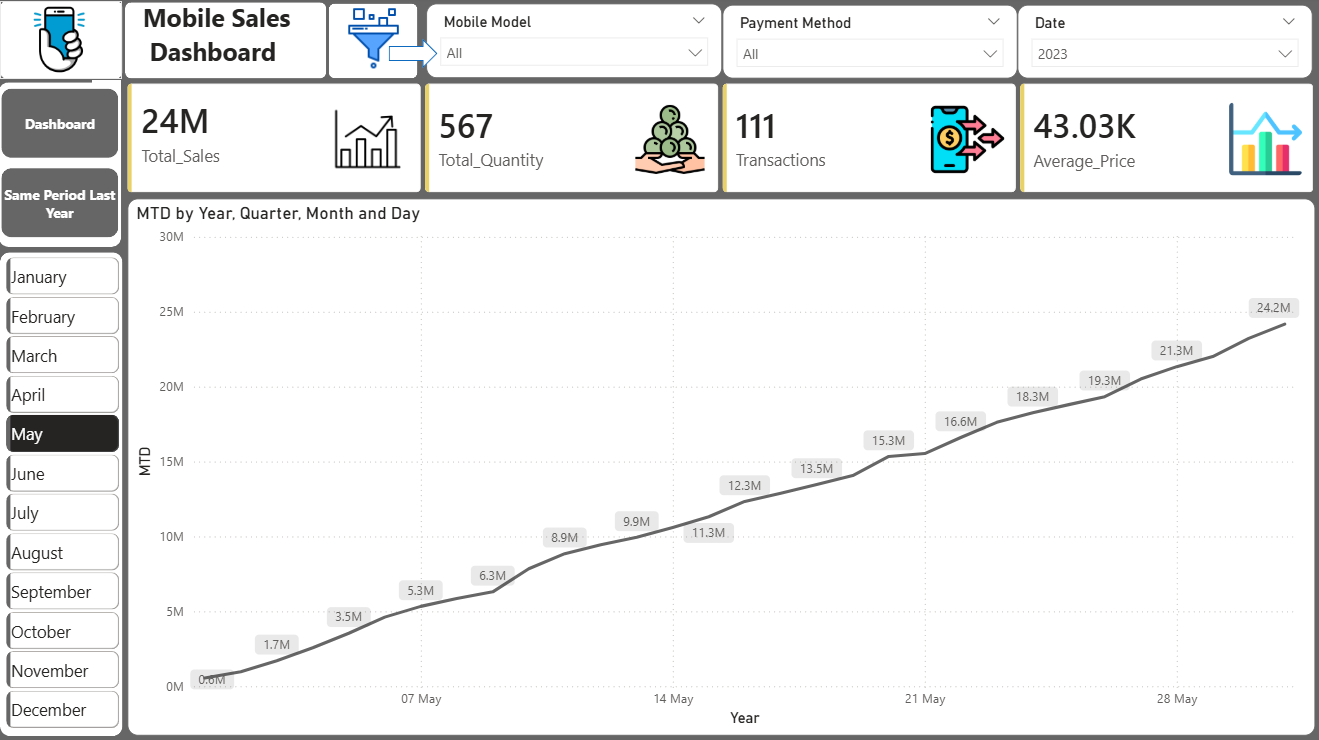

What the dashboard file says about the page in this screenshot:
{"tool":"powerbi","page":{"name":"MTD Dashboard","canvas":[1280,720],"ordinal":1},"visuals":[{"type":"shape","box":[4.8,4.8,118.2,74.8],"z":0},{"type":"shape","box":[4,83,118.2,159],"z":1000},{"type":"shape","box":[4.8,247,118.2,467],"z":2000},{"type":"shape","box":[125.5,6,194.2,73.6],"z":3000},{"type":"shape","box":[322.1,7.2,85.7,72.4],"z":4000},{"type":"advancedSlicerVisual","fields":{"Values":["Custom_Calendar.Date.Variation.Date Hierarchy.Month"]},"box":[8.4,252.1,113.4,462.1],"z":5000},{"type":"cardVisual","fields":{"Data":["Mobile_Data_Sales.Total_Sales","Mobile_Data_Sales.Total_Quantity","Mobile_Data_Sales.Transactions","Mobile_Data_Sales.Average_Price"]},"box":[123.1,79.6,1157,115.8],"z":6000},{"type":"textbox","box":[137.5,0,182.2,79.6],"z":7000},{"type":"slicer","fields":{"Values":["Mobile_Data_Sales.Mobile Model"]},"box":[416.2,7.2,285.9,72.4],"z":8000},{"type":"slicer","fields":{"Values":["Mobile_Data_Sales.Payment Method"]},"box":[702.1,8.4,284.7,71.2],"z":9000},{"type":"slicer","fields":{"Values":["Custom_Calendar.Date.Variation.Date Hierarchy.Year","Custom_Calendar.Date.Variation.Date Hierarchy.Quarter","Custom_Calendar.Date.Variation.Date Hierarchy.Month","Custom_Calendar.Date.Variation.Date Hierarchy.Day"]},"box":[986.9,8.4,284.7,71.2],"z":10000},{"type":"shape","box":[380,41,47.1,29],"z":11000},{"type":"image","box":[328.2,10.9,74.8,60.3],"z":12000},{"type":"lineChart","fields":{"Category":["Custom_Calendar.Date.Variation.Date Hierarchy.Year","Custom_Calendar.Date.Variation.Date Hierarchy.Quarter","Custom_Calendar.Date.Variation.Date Hierarchy.Month","Custom_Calendar.Date.Variation.Date Hierarchy.Day"],"Y":["Mobile_Data_Sales.MTD"]},"box":[127.9,195.4,1146.1,518.8],"z":13000},{"type":"pageNavigator","box":[6,89.3,113.4,144.8],"z":14000},{"type":"image","box":[18.1,0,88.1,83.2],"z":15000}]}

Visuals, with their boxes in screenshot pixels (x1, y1, x2, y2), scaled from the page's 1280x720 canvas onto the 1319x740 screenshot:
shape: 5,5,127,82
shape: 4,85,126,249
shape: 5,254,127,734
shape: 129,6,329,82
shape: 332,7,420,82
advancedSlicerVisual - Custom_Calendar.Date.Variation.Date Hierarchy.Month: 9,259,126,734
cardVisual - Mobile_Data_Sales.Total_Sales x Mobile_Data_Sales.Total_Quantity: 127,82,1318,201
textbox: 142,0,329,82
slicer - Mobile_Data_Sales.Mobile Model: 429,7,723,82
slicer - Mobile_Data_Sales.Payment Method: 723,9,1017,82
slicer - Custom_Calendar.Date.Variation.Date Hierarchy.Year x Custom_Calendar.Date.Variation.Date Hierarchy.Quarter: 1017,9,1310,82
shape: 392,42,440,72
image: 338,11,415,73
lineChart - Custom_Calendar.Date.Variation.Date Hierarchy.Year x Custom_Calendar.Date.Variation.Date Hierarchy.Quarter: 132,201,1313,734
pageNavigator: 6,92,123,241
image: 19,0,109,86
